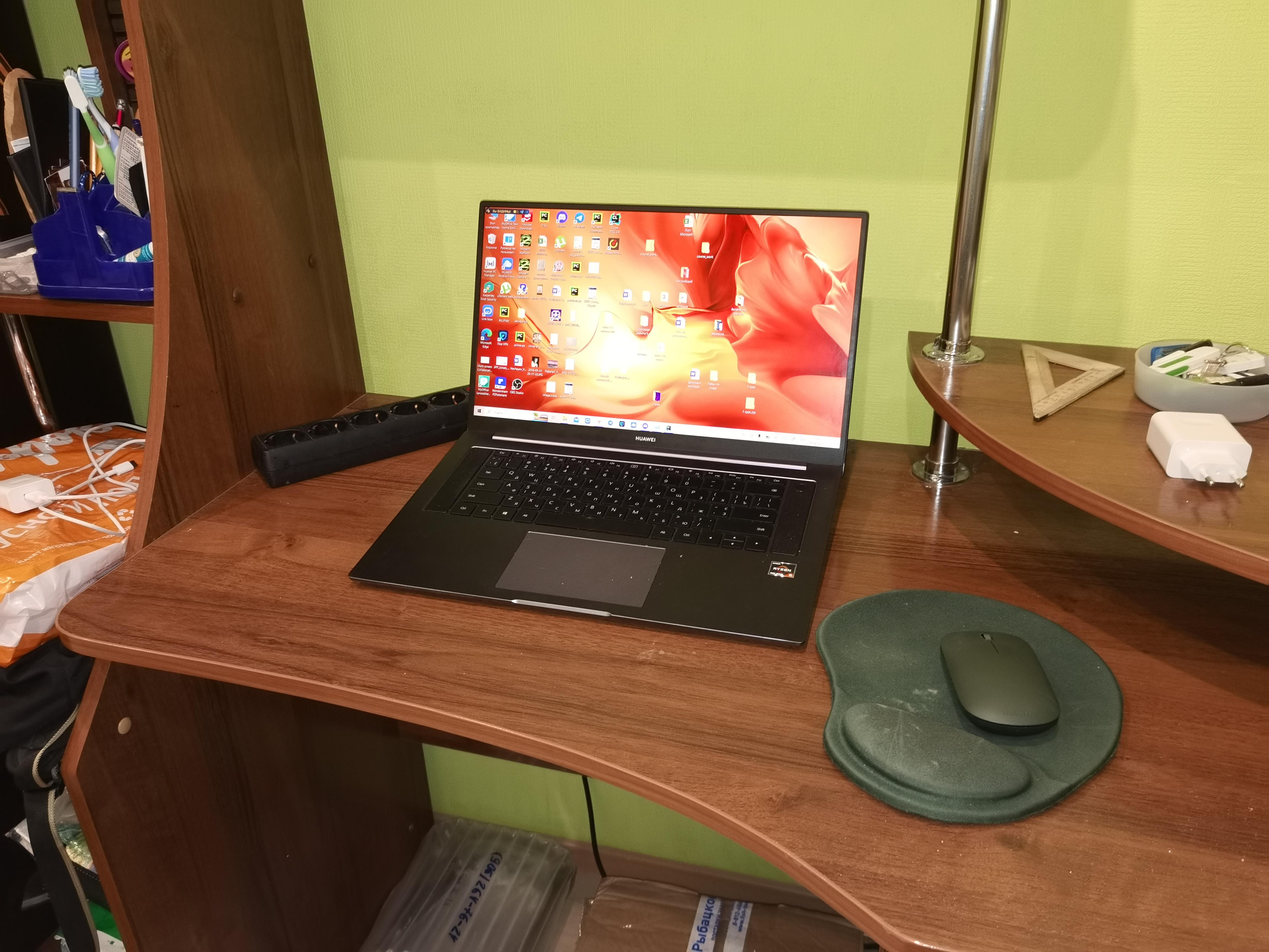monitor: (459, 191, 876, 479)
